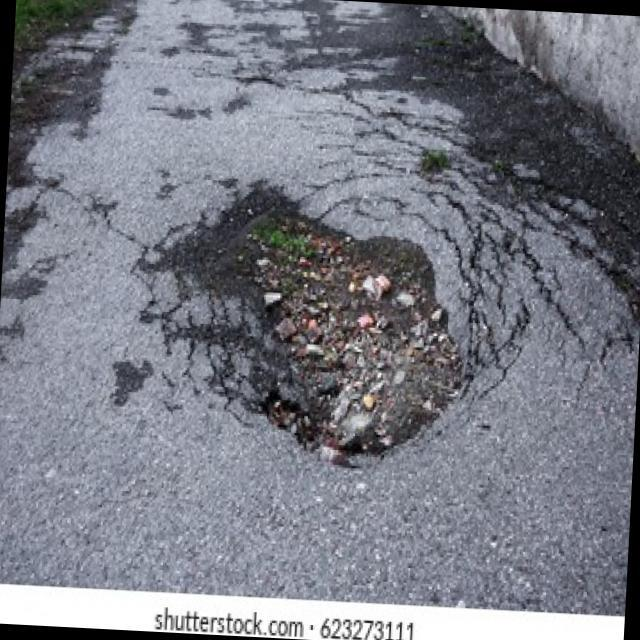Pothole: (215, 183, 472, 471)
